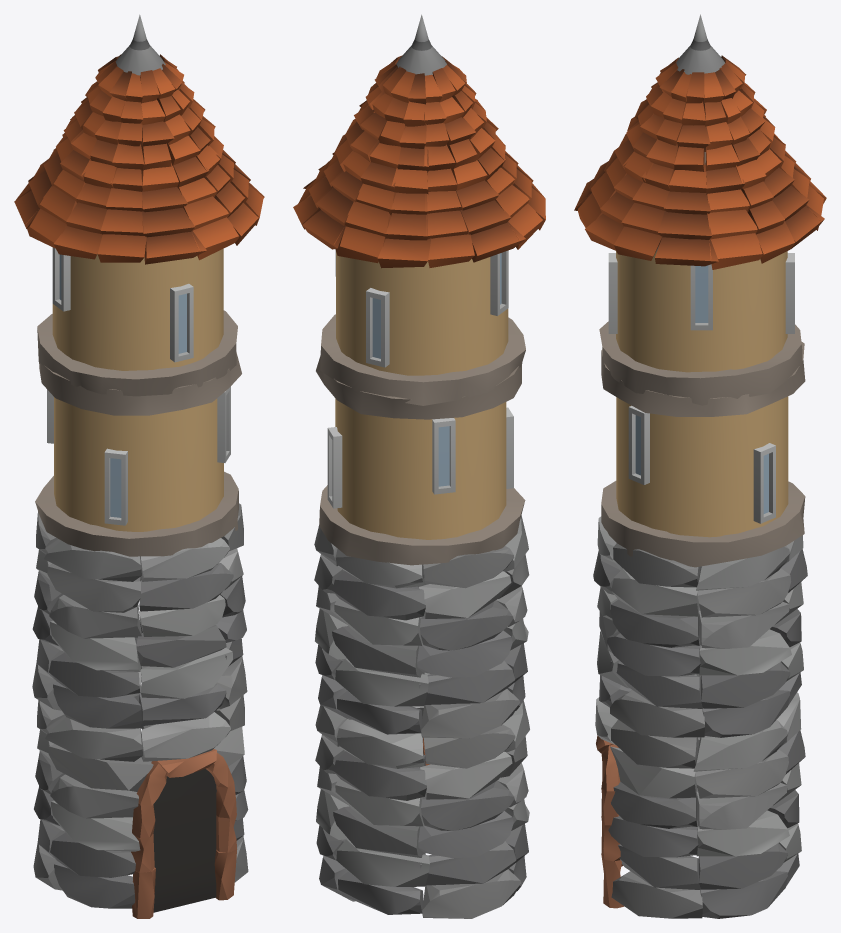
The model's file is tower1.fbx.
3 renders of one model, left to right at view 1: azimuth 30°, elevation 25°; view 2: azimuth 150°, elevation 25°; view 3: azimuth 270°, elevation 25°, orthographic.
Parts seen in each view (by area): view 1: tower1; view 2: tower1; view 3: tower1.
Boxes of the visible parts, bbox=[...] form: tower1: bbox=[14, 14, 264, 918]; tower1: bbox=[293, 14, 545, 918]; tower1: bbox=[574, 14, 826, 918].
Bounding box in the file's own units: 5.91 × 22.44 × 5.91.
